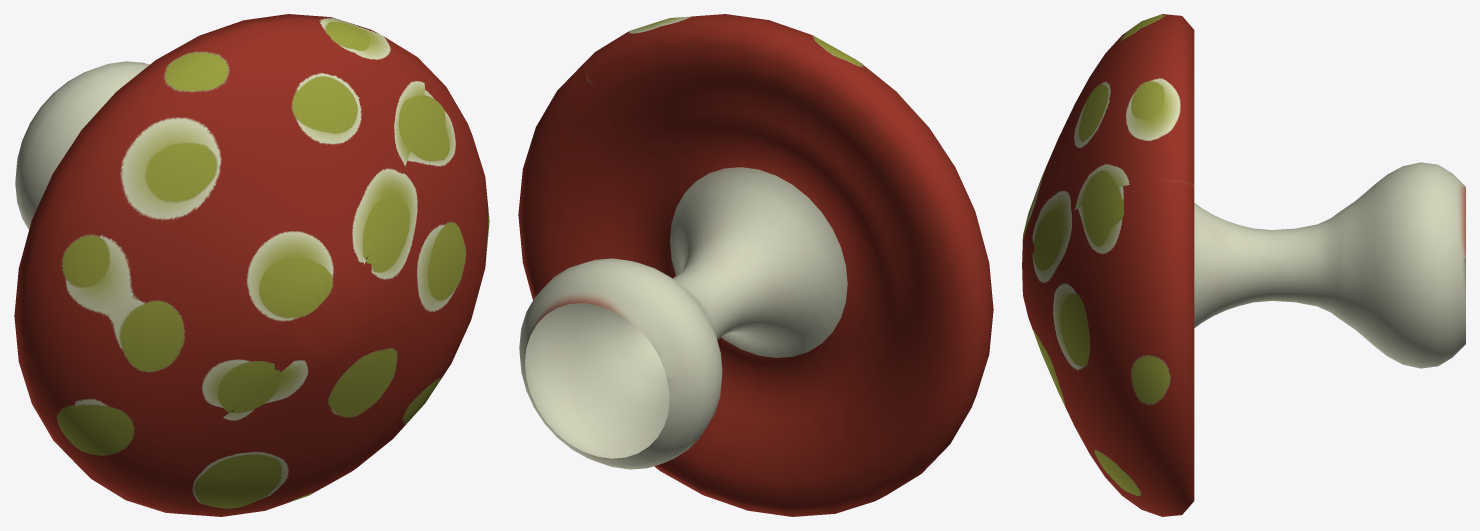
The model's file is Cogumelo Gigante.fbx.
3 views of the same model, side by side, from view 1: azimuth 30°, elevation 25°; view 2: azimuth 150°, elevation 25°; view 3: azimuth 270°, elevation 25° (orthographic). The views are drawn at different scales.
Visible parts, largest first — view 1: Cogumelo.003; view 2: Cogumelo.003; view 3: Cogumelo.003.
Part boxes in pixels (left/top/right/bottom): Cogumelo.003: left=14, top=14, right=489, bottom=516; Cogumelo.003: left=518, top=14, right=993, bottom=516; Cogumelo.003: left=1022, top=14, right=1465, bottom=516.
Bounding box in the file's own units: 4016 × 4016 × 3540.
